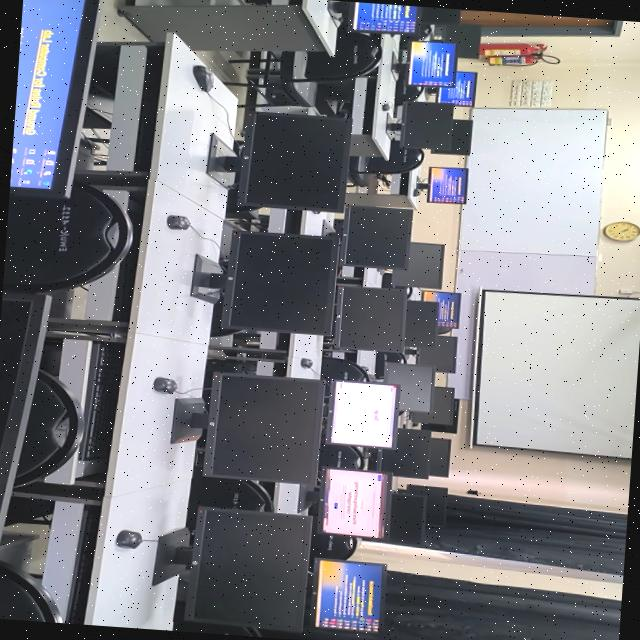Chair: (1, 183, 131, 293), (228, 28, 380, 108), (14, 370, 83, 486), (186, 470, 270, 528), (0, 561, 62, 623), (349, 141, 423, 186), (310, 516, 356, 559), (320, 357, 369, 382), (318, 444, 363, 469)
Fire Extinguisher: (479, 43, 559, 65), (479, 43, 536, 55)
Keyboard: (78, 342, 122, 460)
Monitor: (170, 372, 323, 483), (190, 229, 337, 335), (185, 506, 310, 630), (9, 0, 84, 189), (0, 293, 49, 534), (235, 112, 350, 211), (326, 285, 404, 352), (314, 560, 385, 632), (317, 469, 390, 538), (334, 206, 410, 269), (325, 381, 396, 448), (363, 492, 425, 545), (368, 428, 428, 478), (382, 242, 443, 289), (399, 101, 452, 149), (383, 362, 433, 412), (406, 41, 454, 88), (351, 1, 419, 34), (402, 485, 446, 526), (408, 386, 453, 424), (433, 24, 480, 59), (403, 300, 437, 348), (415, 335, 456, 373), (427, 167, 467, 204), (430, 119, 471, 155), (436, 71, 476, 107), (422, 291, 459, 328), (420, 399, 458, 433), (428, 437, 450, 477), (421, 6, 459, 25)
Mouse: (192, 65, 212, 92), (116, 530, 141, 548), (153, 377, 175, 394), (166, 215, 189, 230), (300, 358, 311, 368), (381, 103, 390, 111), (412, 188, 420, 196)
